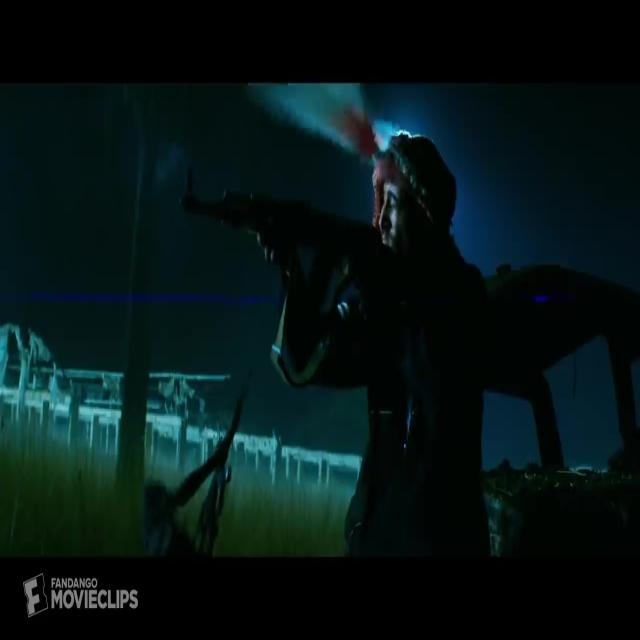Weapon: (151, 138, 386, 336), (144, 400, 306, 560)
